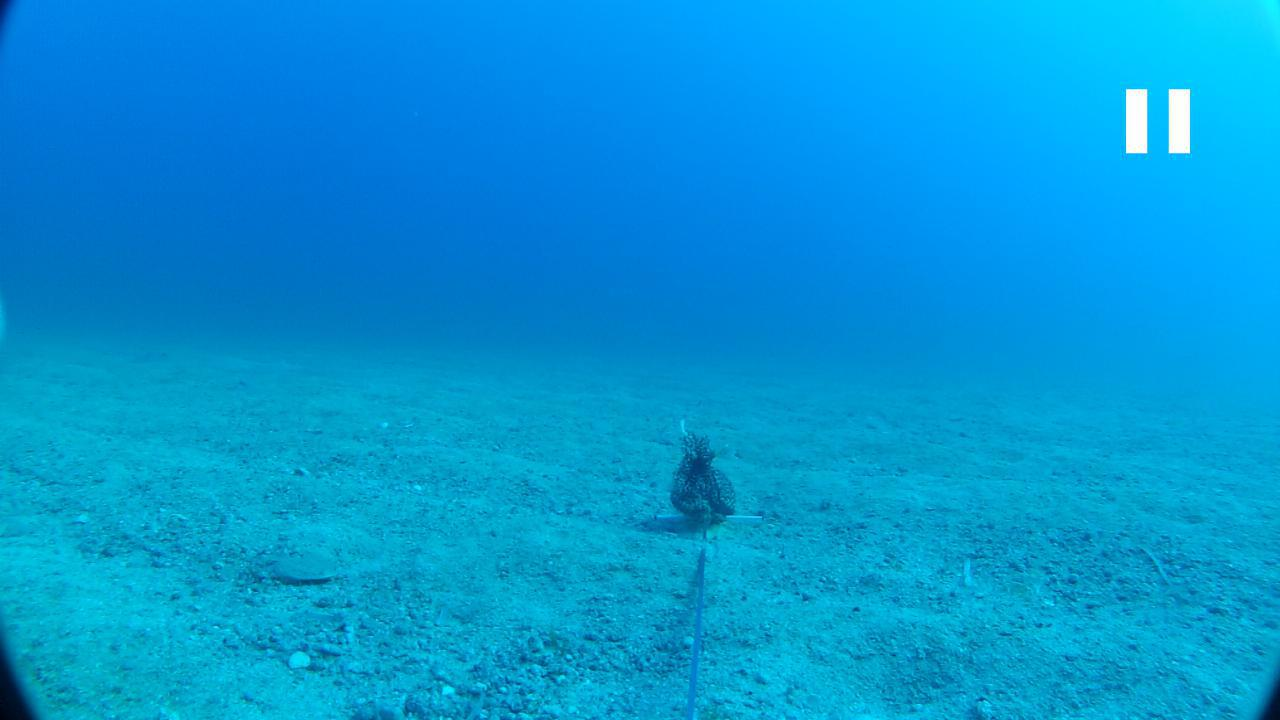bothus: (270, 544, 346, 589)
